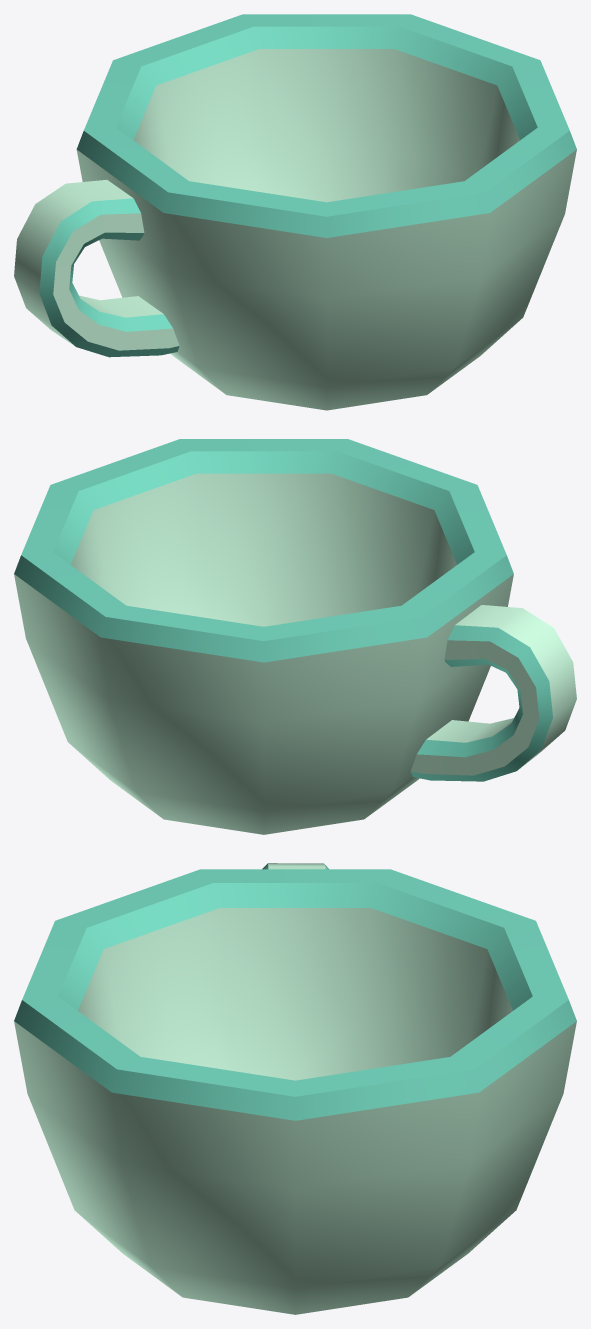
The model's file is CoffeCup_D.glb.
The picture shows the model from 3 angles, top to bottom: view 1: azimuth 30°, elevation 25°; view 2: azimuth 150°, elevation 25°; view 3: azimuth 270°, elevation 25°; orthographic projection. The views are drawn at different scales.
Visible parts, largest first — view 1: CoffeCup_D; view 2: CoffeCup_D; view 3: CoffeCup_D.
Boxes of the visible parts, <box> form: CoffeCup_D: <box>14,14,576,410</box>; CoffeCup_D: <box>14,439,576,834</box>; CoffeCup_D: <box>14,863,576,1314</box>.
Size of the model in its own units: 0.1849 by 0.0822 by 0.1538.
1 material, 1 textured.
